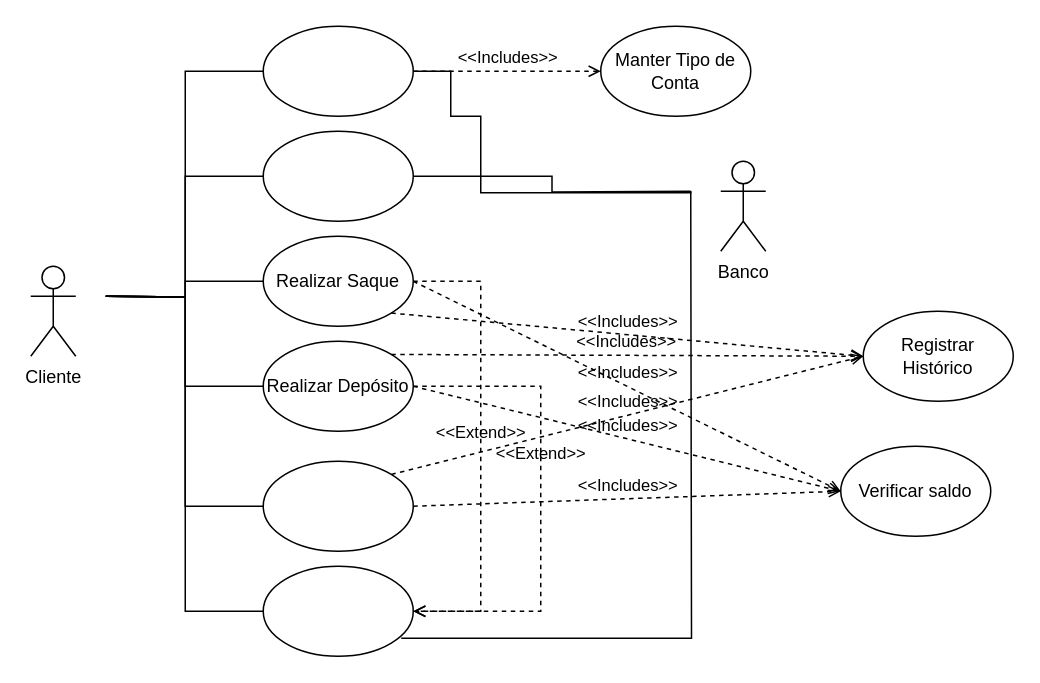
Some shapes in this 1040 by 683 pixel diagram are drawn without their labels. The centre of each missing label's shape, as x and y in pixels:
Abrir Conta: the point at 337,70
Encerrar Conta: the point at 337,610
Manter Cliente: the point at 337,175
Transferir saldo: the point at 337,505
